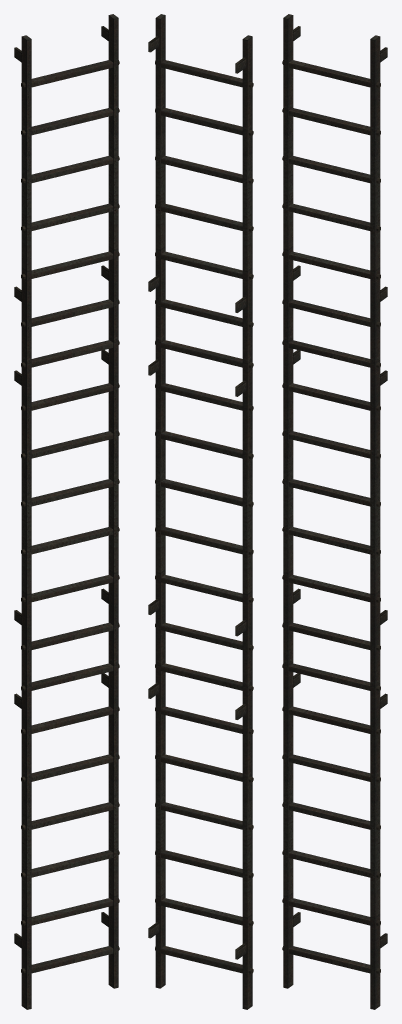
The model's file is ladder_hr_1_long.dae.
3 renders of one model, left to right at view 1: azimuth 30°, elevation 25°; view 2: azimuth 150°, elevation 25°; view 3: azimuth 330°, elevation 25°, orthographic.
Parts seen in each view (by area): view 1: ladder_hr_1_long; view 2: ladder_hr_1_long; view 3: ladder_hr_1_long.
Part boxes in pixels (x1,y1,x2,y2): ladder_hr_1_long: [14, 14, 119, 1009]; ladder_hr_1_long: [148, 14, 253, 1009]; ladder_hr_1_long: [282, 14, 387, 1009].
Bounding box in the file's own units: 0.84 × 0.21 × 8.1.
1 material, 1 textured.
